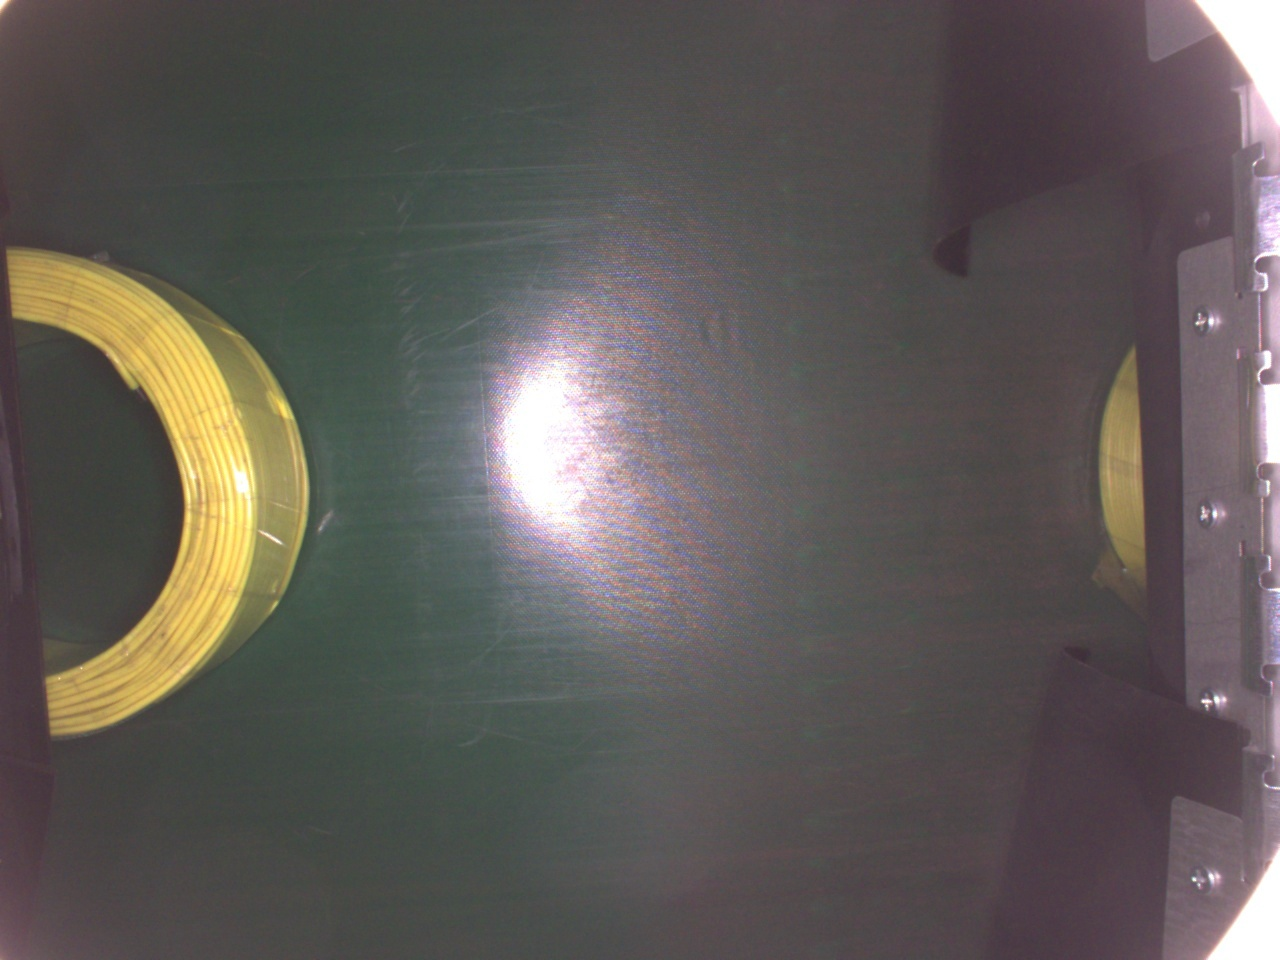yellow: (0, 242, 308, 748)
